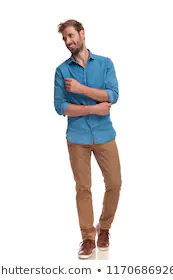person: (49, 17, 113, 81)
